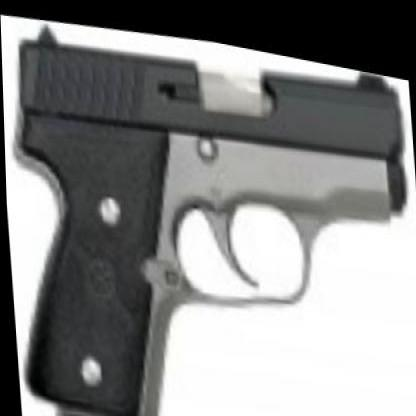pistol: (7, 0, 415, 415)
